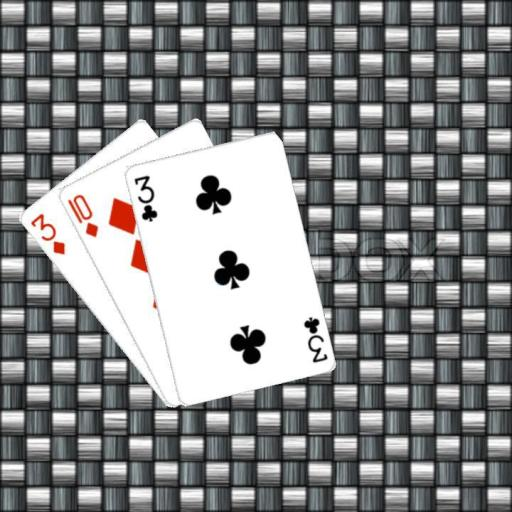10D: (64, 191, 100, 239)
3C: (130, 172, 159, 224), (300, 313, 329, 364)
3D: (26, 210, 67, 257)
